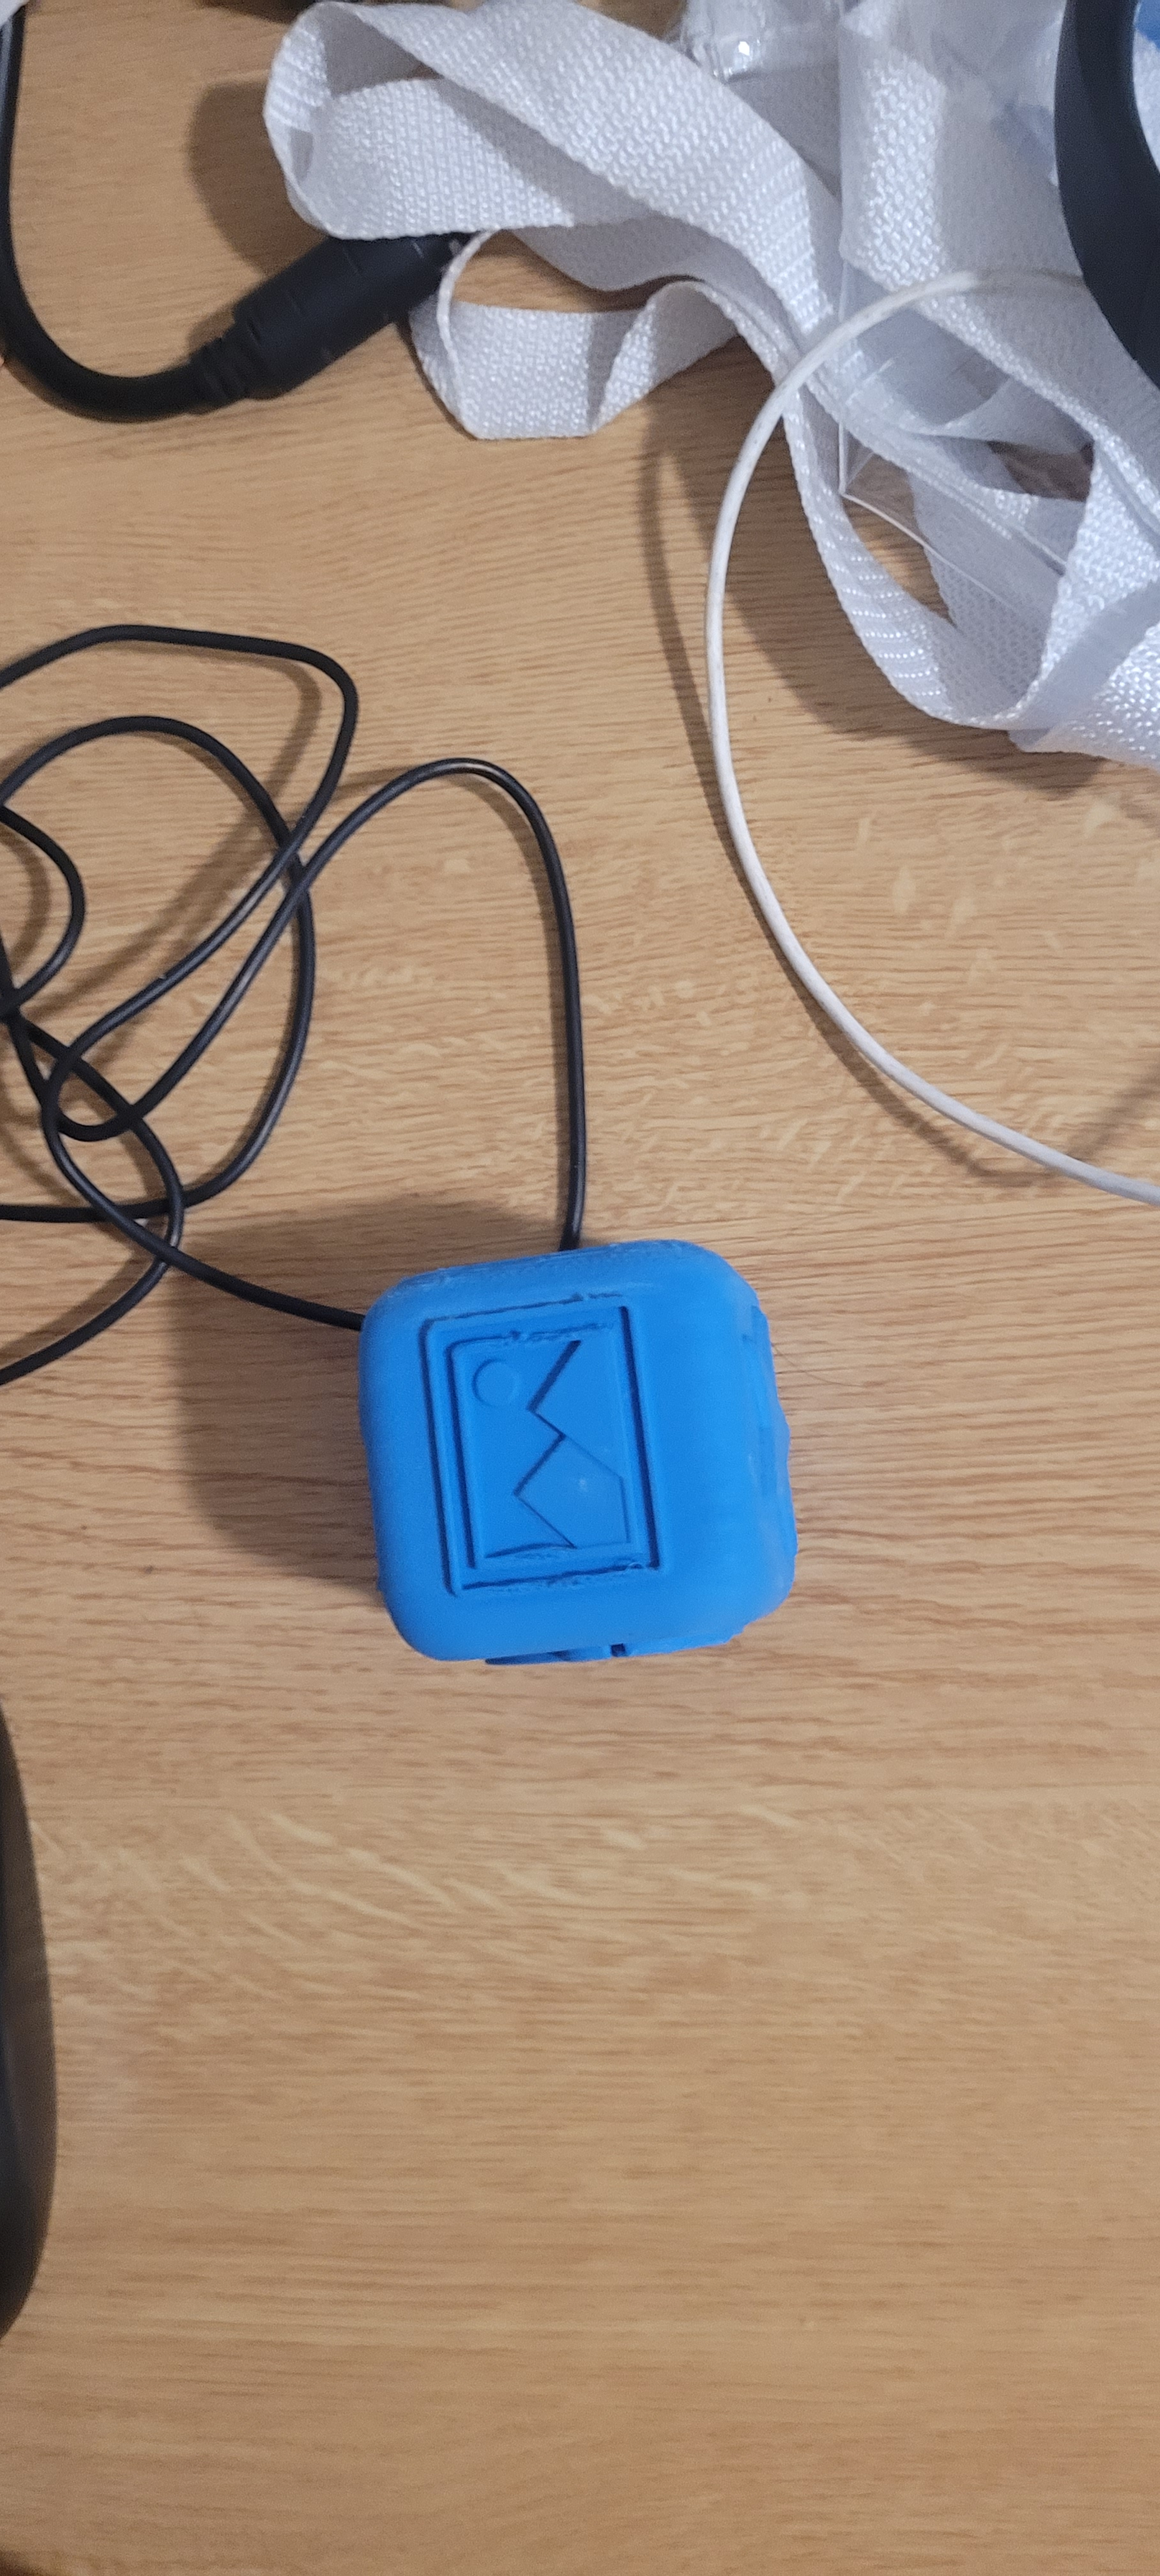Story: (422, 1268, 672, 1626)
